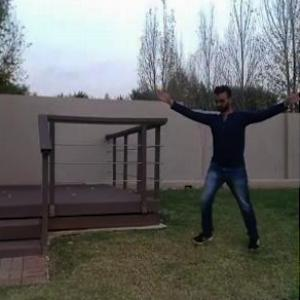takeoff: (152, 83, 298, 247)
